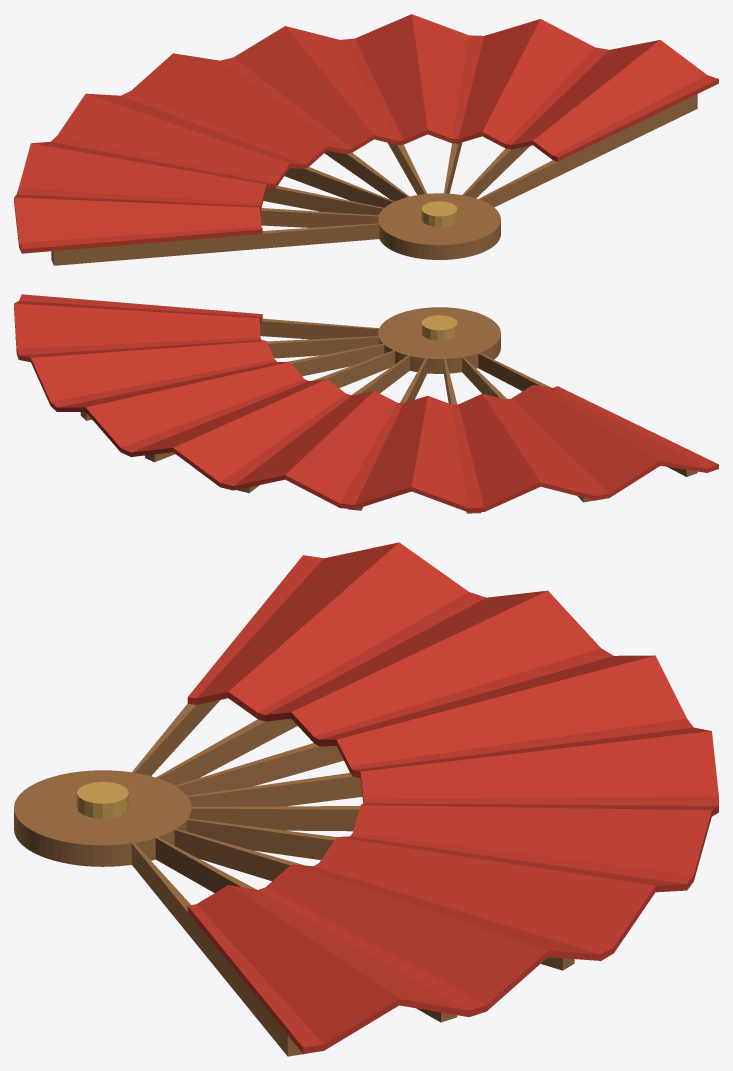
The picture shows the model from 3 angles, top to bottom: view 1: azimuth 30°, elevation 25°; view 2: azimuth 150°, elevation 25°; view 3: azimuth 270°, elevation 25°; orthographic projection. The views are drawn at different scales.
Visible parts, largest first — view 1: ContinuousEightPleatAnnularFanLeaf, ContinuousNineRibRoundedPivotSkeleton, FacetedFixedPivotHead; view 2: ContinuousEightPleatAnnularFanLeaf, ContinuousNineRibRoundedPivotSkeleton, FacetedFixedPivotHead; view 3: ContinuousEightPleatAnnularFanLeaf, ContinuousNineRibRoundedPivotSkeleton, FacetedFixedPivotHead.
Boxes of the visible parts, bbox=[...] form: ContinuousEightPleatAnnularFanLeaf: bbox=[14, 14, 718, 253]; ContinuousNineRibRoundedPivotSkeleton: bbox=[51, 94, 697, 265]; FacetedFixedPivotHead: bbox=[421, 201, 457, 226]; ContinuousEightPleatAnnularFanLeaf: bbox=[14, 294, 718, 512]; ContinuousNineRibRoundedPivotSkeleton: bbox=[80, 307, 697, 513]; FacetedFixedPivotHead: bbox=[421, 315, 457, 340]; ContinuousEightPleatAnnularFanLeaf: bbox=[187, 542, 718, 1053]; ContinuousNineRibRoundedPivotSkeleton: bbox=[14, 700, 574, 1056]; FacetedFixedPivotHead: bbox=[76, 781, 128, 818].
Size of the model in its own units: 0.9835 by 0.0546 by 0.5949.
